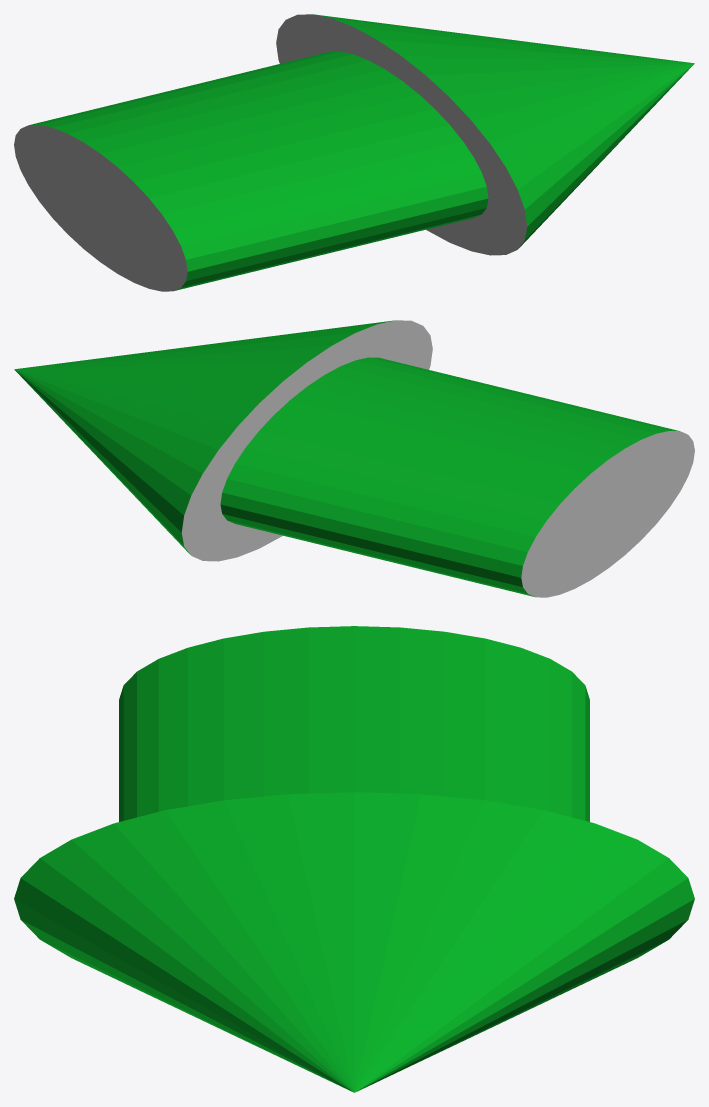
The model's file is arrow_green.obj.
3 renders of one model, top to bottom at view 1: azimuth 30°, elevation 25°; view 2: azimuth 150°, elevation 25°; view 3: azimuth 270°, elevation 25°, orthographic. The views are drawn at different scales.
Parts seen in each view (by area): view 1: arrow_green_Cylinder; view 2: arrow_green_Cylinder; view 3: arrow_green_Cylinder.
Part boxes in pixels (x1,y1,x2,y2): arrow_green_Cylinder: [14, 14, 694, 291]; arrow_green_Cylinder: [14, 320, 694, 597]; arrow_green_Cylinder: [14, 626, 694, 1092].
Bounding box in the file's own units: 0.0566 × 0.0143 × 0.0414.
